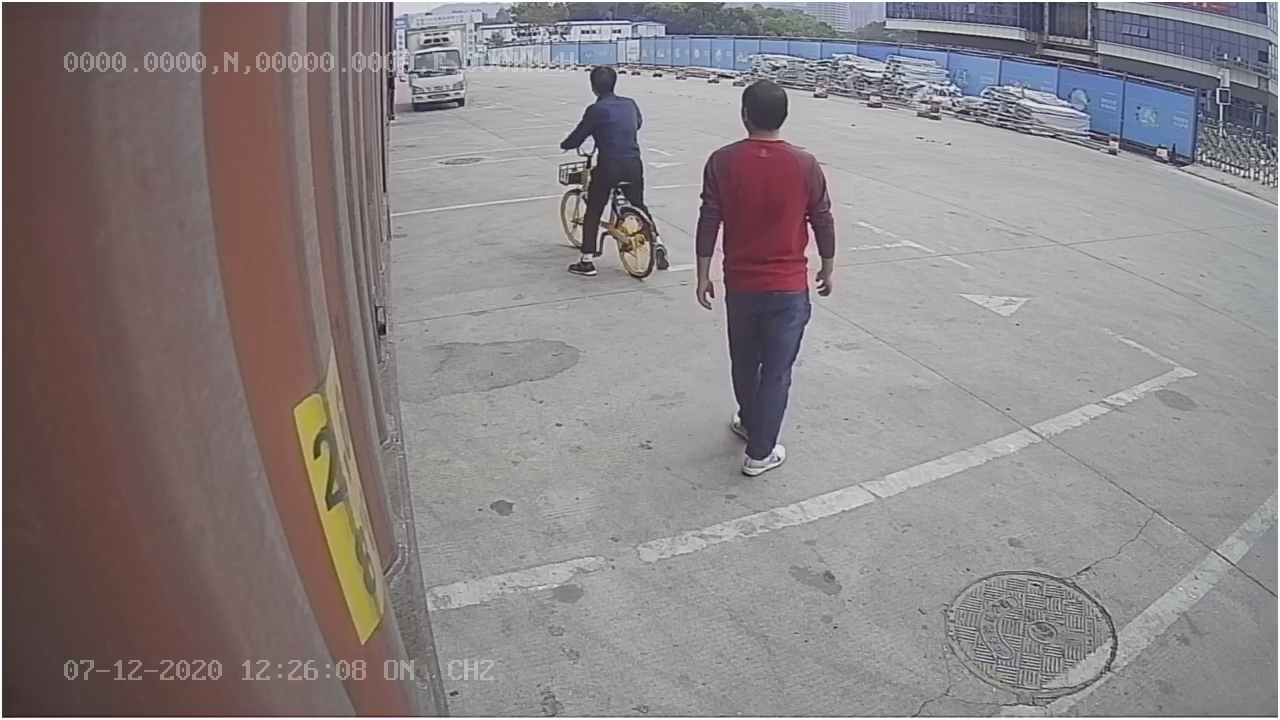person: (690, 73, 840, 484)
